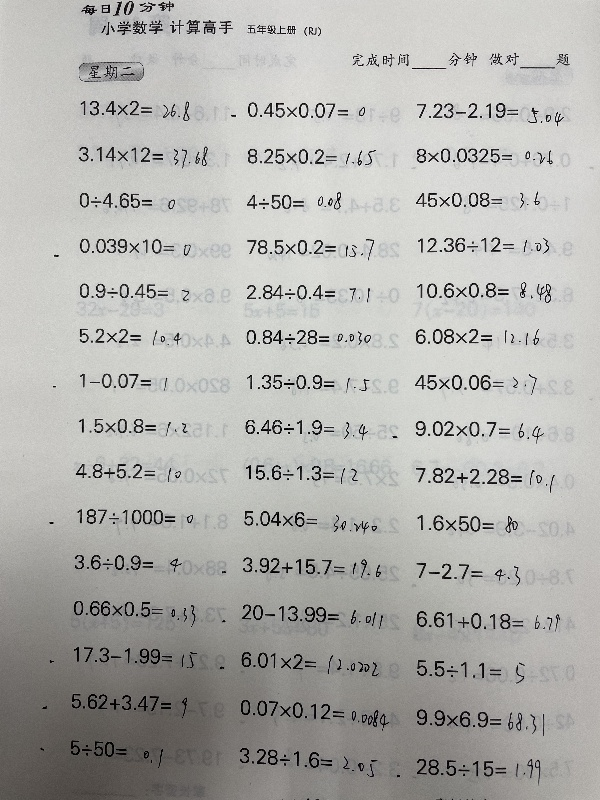equation: (235, 696, 391, 734), (415, 705, 552, 746), (237, 648, 384, 686), (237, 744, 383, 782), (239, 506, 383, 543), (69, 595, 202, 635), (411, 605, 566, 639), (238, 600, 387, 633), (239, 554, 386, 587), (414, 655, 530, 694), (411, 460, 557, 490), (412, 96, 566, 124), (413, 754, 546, 786), (72, 504, 196, 538), (63, 736, 168, 776), (412, 274, 554, 303), (75, 142, 211, 172), (64, 691, 196, 721), (240, 415, 371, 445), (243, 234, 378, 263), (73, 644, 201, 674), (411, 370, 540, 399), (410, 415, 546, 442), (69, 550, 183, 582), (412, 188, 546, 215), (408, 557, 524, 588), (242, 143, 378, 168), (75, 95, 192, 124), (414, 233, 553, 257), (411, 143, 555, 166), (241, 369, 372, 394), (227, 98, 369, 121), (411, 324, 543, 348), (241, 459, 360, 485), (242, 325, 375, 348), (74, 233, 194, 257), (74, 278, 192, 302), (71, 458, 184, 483), (73, 190, 181, 216), (74, 413, 190, 437), (412, 510, 521, 534), (74, 323, 183, 347), (243, 188, 345, 213), (75, 368, 170, 392), (243, 280, 338, 303)
